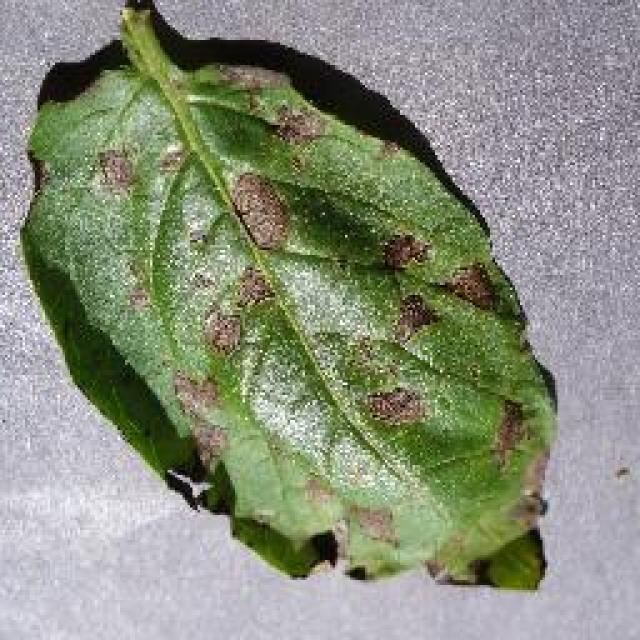Potato___Early_blight: (16, 0, 560, 594)
